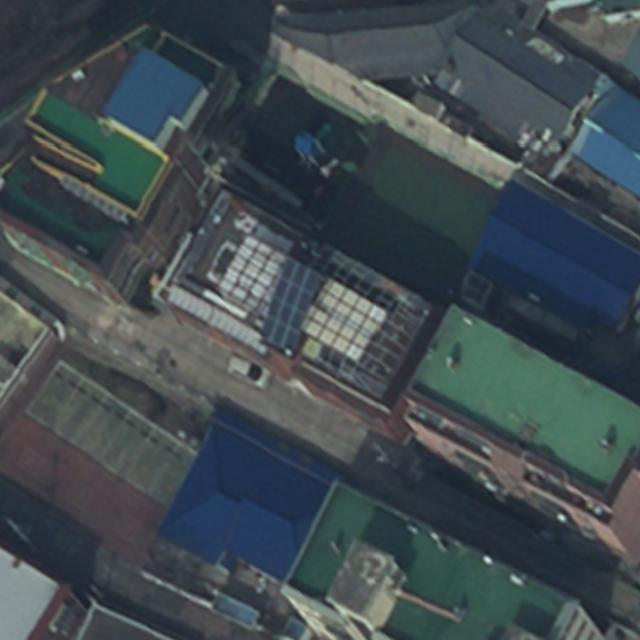panel: (256, 254, 322, 354)
